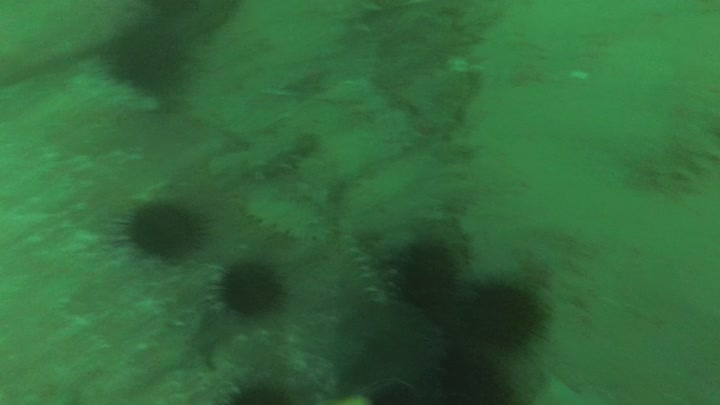echinus: (97, 17, 203, 102), (460, 268, 553, 356), (108, 191, 216, 265), (390, 241, 472, 320), (205, 261, 294, 323), (432, 345, 517, 405), (218, 377, 301, 405)
holothurian: (631, 92, 720, 197), (240, 129, 325, 185), (243, 195, 329, 244), (347, 237, 399, 310)
